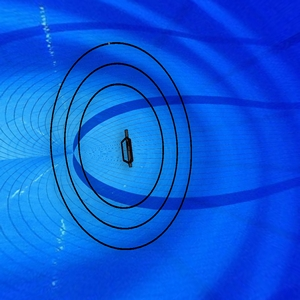circle: (46, 32, 197, 254)
submarine: (111, 124, 142, 171)
